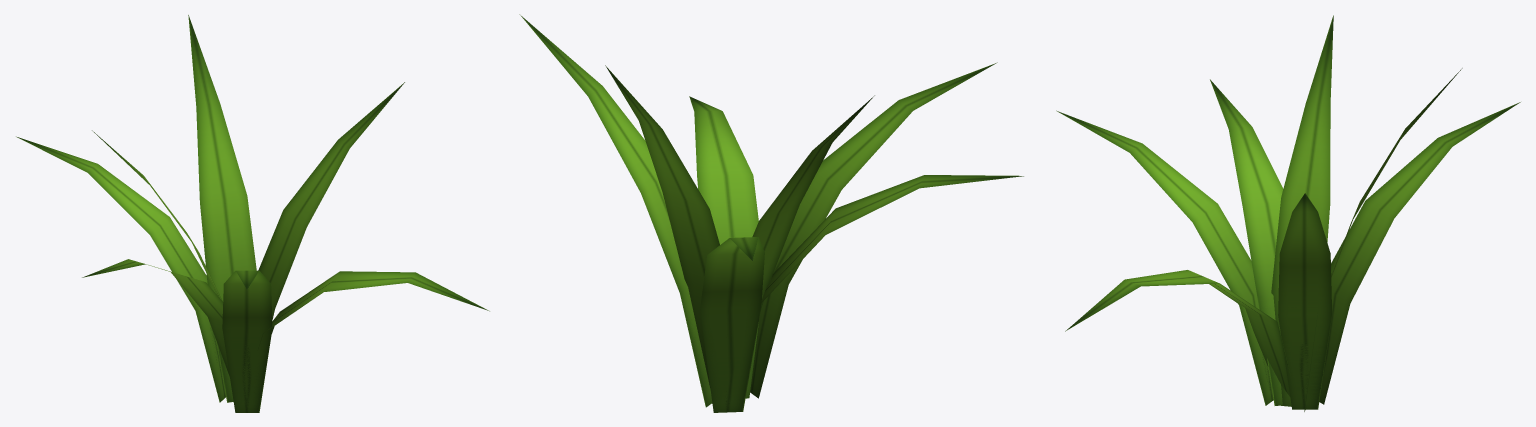
The model's file is bg_grass.FBX.
3 views of the same model, side by side, from view 1: azimuth 30°, elevation 25°; view 2: azimuth 150°, elevation 25°; view 3: azimuth 270°, elevation 25° (orthographic). The views are drawn at different scales.
Visible parts, largest first — view 1: bg_grass; view 2: bg_grass; view 3: bg_grass.
Part boxes in pixels (bbox=[...]): bg_grass: bbox=[16, 15, 489, 412]; bg_grass: bbox=[519, 14, 1023, 412]; bg_grass: bbox=[1056, 15, 1520, 411].
Bounding box in the file's own units: 7.11 × 6.02 × 7.21.
